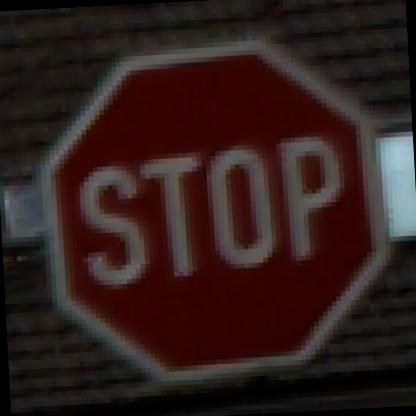stop: (24, 48, 413, 376)
